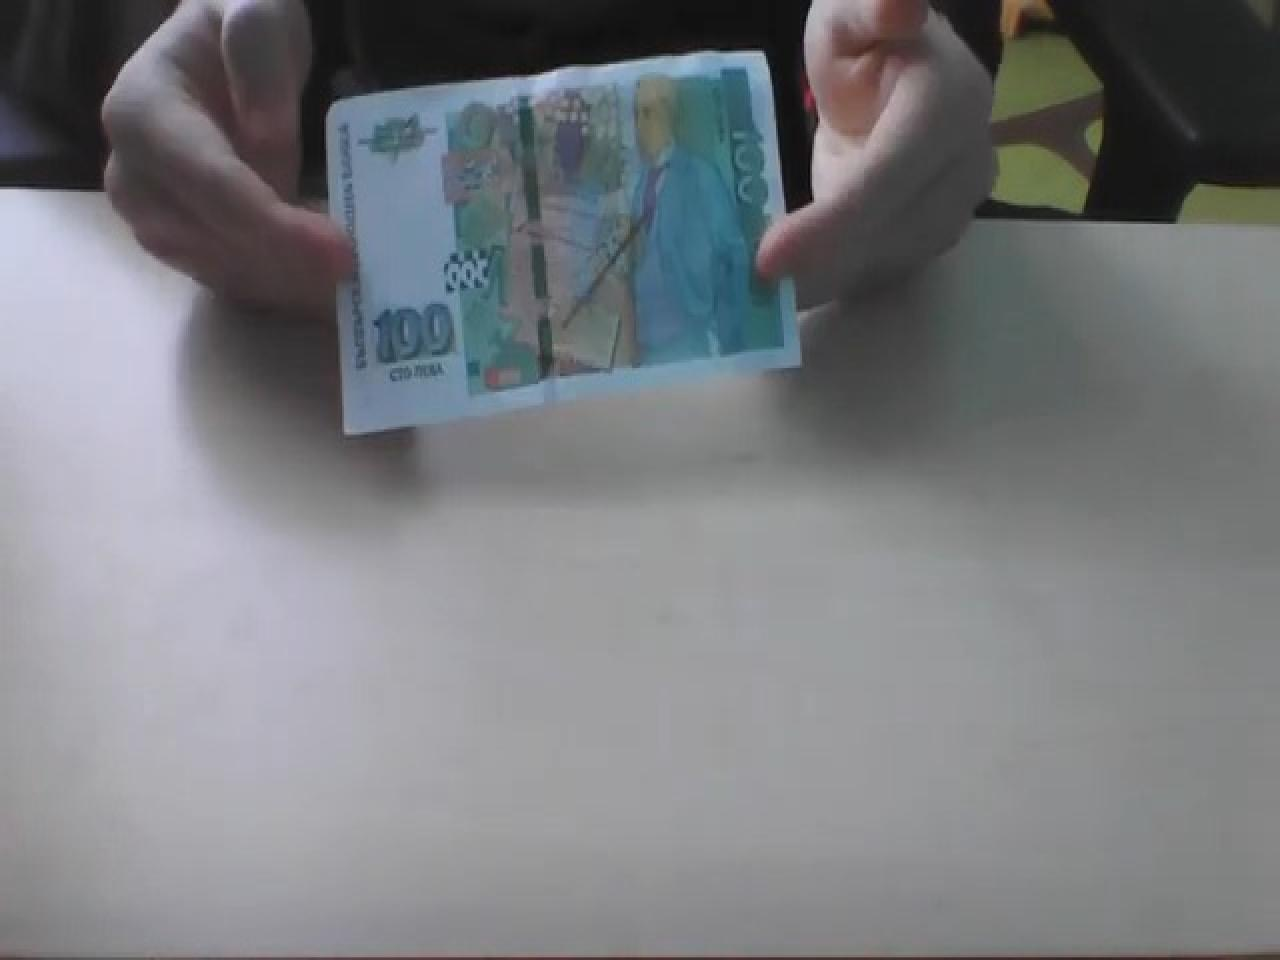100leva: (324, 45, 802, 435), (368, 298, 454, 365)
